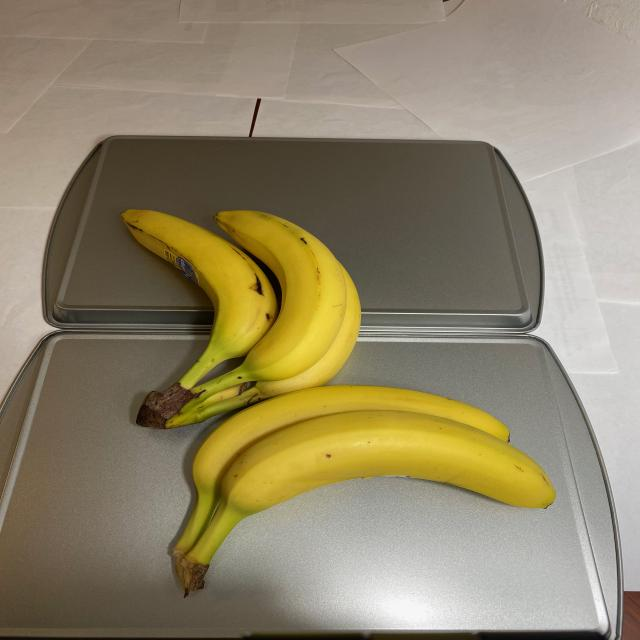banana: (112, 206, 557, 583)
